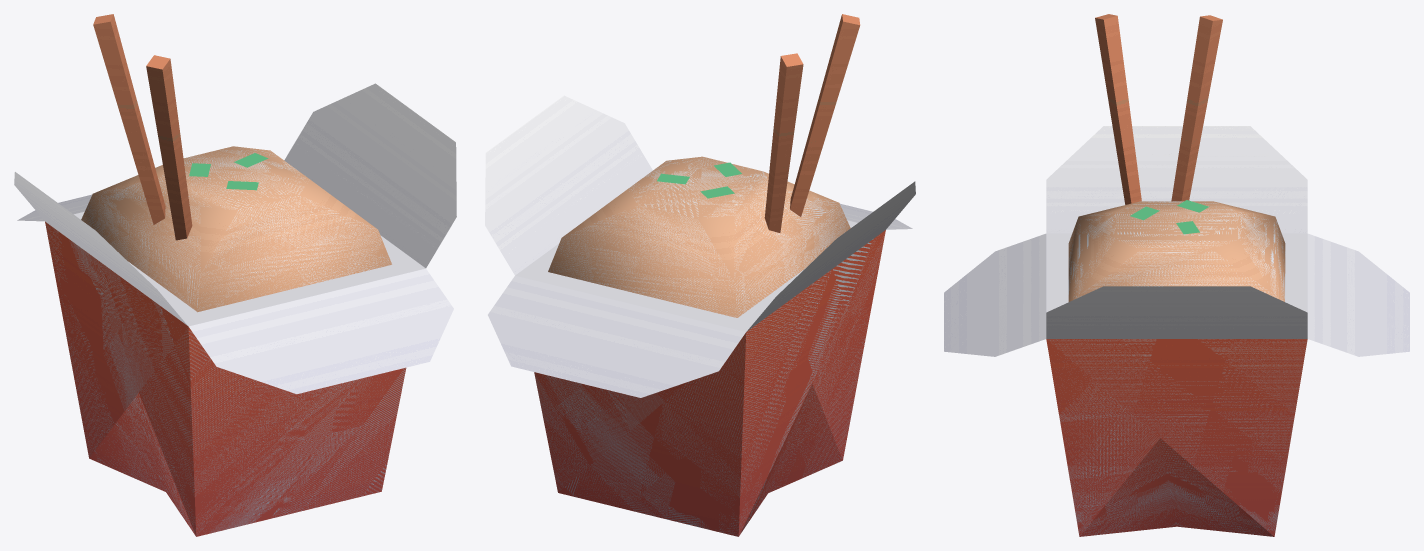
Rendered from chinese.glb.
3 renders of one model, left to right at view 1: azimuth 30°, elevation 25°; view 2: azimuth 150°, elevation 25°; view 3: azimuth 270°, elevation 25°, orthographic. The views are drawn at different scales.
Parts seen in each view (by area): view 1: chinese, chopstick (×2); view 2: chinese, chopstick (×2); view 3: chinese, chopstick (×2).
Part boxes in pixels (bbox=[...]): chinese: bbox=[14, 83, 456, 536]; chopstick (×2): bbox=[93, 14, 192, 240]; chinese: bbox=[485, 95, 915, 536]; chopstick (×2): bbox=[764, 14, 860, 232]; chinese: bbox=[944, 126, 1409, 536]; chopstick (×2): bbox=[1095, 14, 1222, 204].
Size of the model in its own units: 0.4538 by 0.5671 by 0.5575.
Materials: 1 (1 with a texture image).
